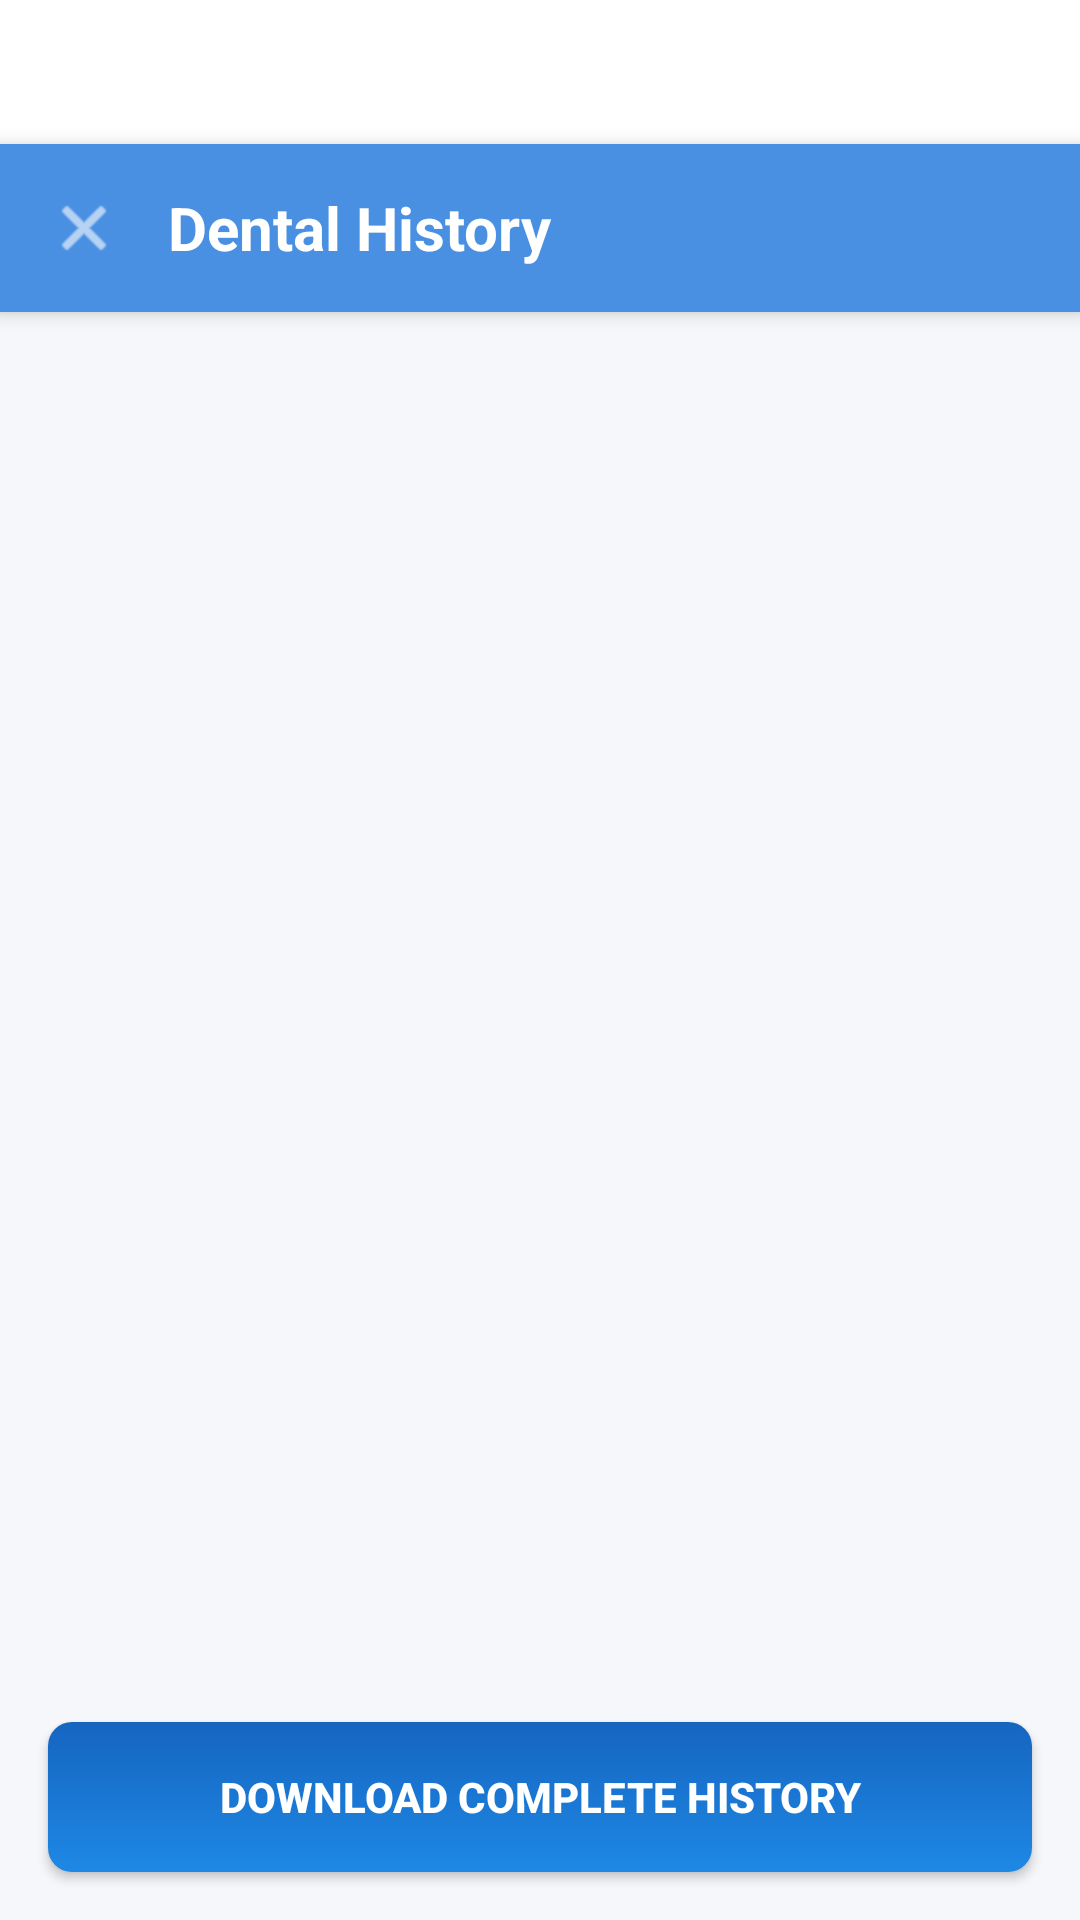

Icon bounding boxes for this 1080px×1920px phone screenshot, format (x1, y1, x2, y2):
Close: (62, 206, 106, 250)
